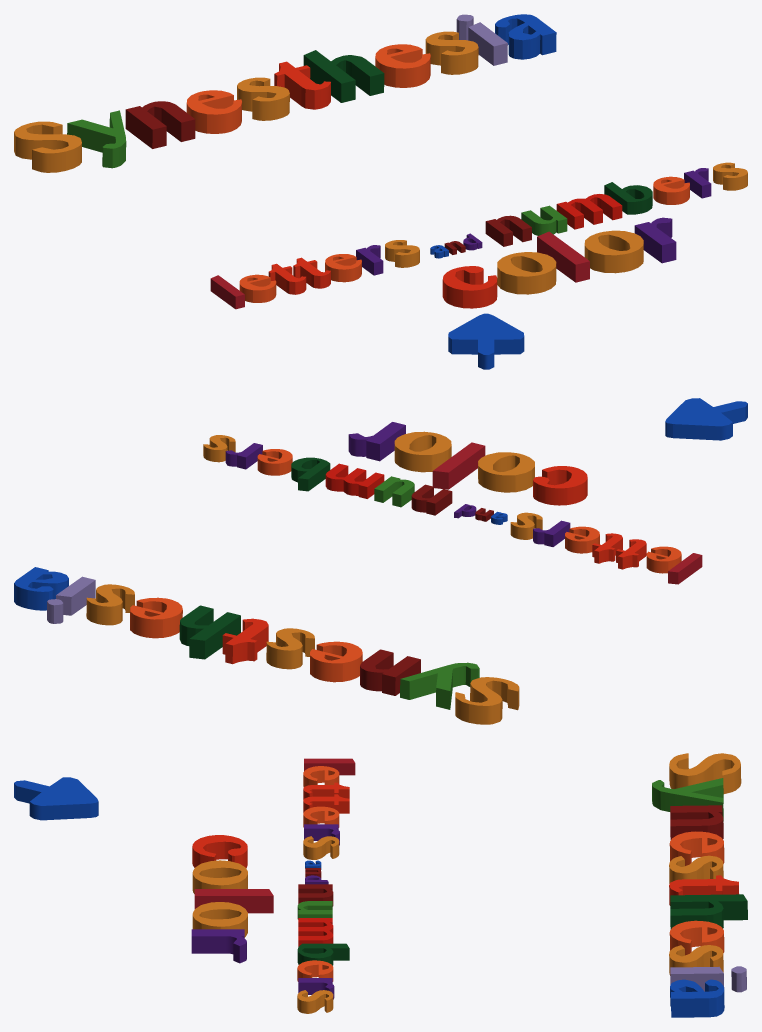
The model's file is postermodel_transparent.obj.
3 renders of one model, top to bottom at view 1: azimuth 30°, elevation 25°; view 2: azimuth 150°, elevation 25°; view 3: azimuth 270°, elevation 25°, orthographic. The views are drawn at different scales.
Visible parts, largest first — view 1: planarTrimmedSurface12, pCube1, planarTrimmedSurface18, planarTrimmedSurface14, planarTrimmedSurface41, planarTrimmedSurface43, planarTrimmedSurface22, planarTrimmedSurface19, planarTrimmedSurface15, planarTrimmedSurface40, planarTrimmedSurface13, planarTrimmedSurface20 (+19 smaller); view 2: pCube1, planarTrimmedSurface12, planarTrimmedSurface18, planarTrimmedSurface13, planarTrimmedSurface41, planarTrimmedSurface43, planarTrimmedSurface40, planarTrimmedSurface15, planarTrimmedSurface19, planarTrimmedSurface14, planarTrimmedSurface22, planarTrimmedSurface20 (+19 smaller); view 3: pCube1, planarTrimmedSurface18, planarTrimmedSurface12, planarTrimmedSurface22, planarTrimmedSurface13, planarTrimmedSurface14, planarTrimmedSurface44, planarTrimmedSurface42, planarTrimmedSurface41, planarTrimmedSurface43, planarTrimmedSurface40, planarTrimmedSurface15 (+19 smaller).
Part boxes in pixels (bbox=[...]): planarTrimmedSurface12: bbox=[14, 121, 81, 172]; pCube1: bbox=[448, 313, 524, 369]; planarTrimmedSurface18: bbox=[303, 50, 384, 102]; planarTrimmedSurface14: bbox=[125, 101, 195, 148]; planarTrimmedSurface41: bbox=[497, 252, 556, 294]; planarTrimmedSurface43: bbox=[584, 230, 643, 273]; planarTrimmedSurface22: bbox=[495, 14, 556, 59]; planarTrimmedSurface19: bbox=[375, 44, 430, 87]; planarTrimmedSurface15: bbox=[186, 90, 242, 133]; planarTrimmedSurface40: bbox=[442, 266, 497, 308]; planarTrimmedSurface13: bbox=[67, 110, 126, 168]; planarTrimmedSurface20: bbox=[425, 31, 478, 74]; pCube1: bbox=[665, 398, 747, 440]; planarTrimmedSurface12: bbox=[455, 677, 519, 724]; planarTrimmedSurface18: bbox=[179, 605, 240, 659]; planarTrimmedSurface13: bbox=[400, 662, 479, 709]; planarTrimmedSurface41: bbox=[478, 452, 534, 492]; planarTrimmedSurface43: bbox=[394, 431, 451, 472]; planarTrimmedSurface40: bbox=[533, 466, 587, 505]; planarTrimmedSurface15: bbox=[310, 641, 362, 682]; planarTrimmedSurface19: bbox=[130, 597, 182, 638]; planarTrimmedSurface14: bbox=[360, 649, 420, 695]; planarTrimmedSurface22: bbox=[14, 567, 68, 610]; planarTrimmedSurface20: bbox=[86, 584, 134, 625]; pCube1: bbox=[14, 777, 98, 820]; planarTrimmedSurface18: bbox=[670, 894, 747, 929]; planarTrimmedSurface12: bbox=[669, 753, 741, 793]; planarTrimmedSurface22: bbox=[670, 979, 724, 1017]; planarTrimmedSurface13: bbox=[652, 778, 723, 821]; planarTrimmedSurface14: bbox=[670, 805, 723, 839]; planarTrimmedSurface44: bbox=[191, 929, 246, 963]; planarTrimmedSurface42: bbox=[194, 889, 273, 913]; planarTrimmedSurface41: bbox=[192, 860, 247, 893]; planarTrimmedSurface43: bbox=[192, 902, 247, 937]; planarTrimmedSurface40: bbox=[192, 835, 247, 868]; planarTrimmedSurface15: bbox=[669, 831, 724, 865].
Bounding box in the file's own units: 1.09 × 0.0882 × 1.38.
